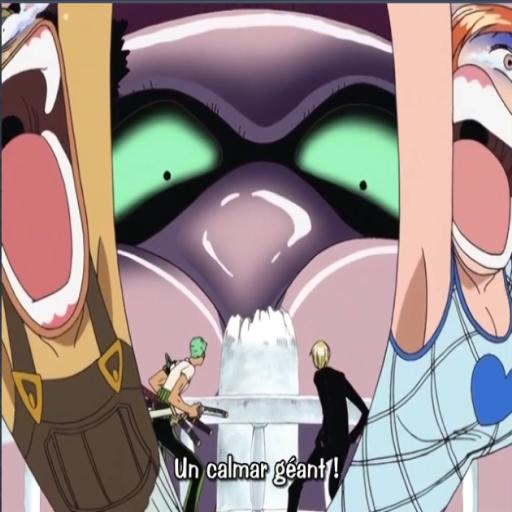Nami: (362, 0, 512, 512)
Usopp: (0, 0, 182, 512)
Zoro: (143, 336, 232, 458)
sanji: (291, 325, 362, 510)
